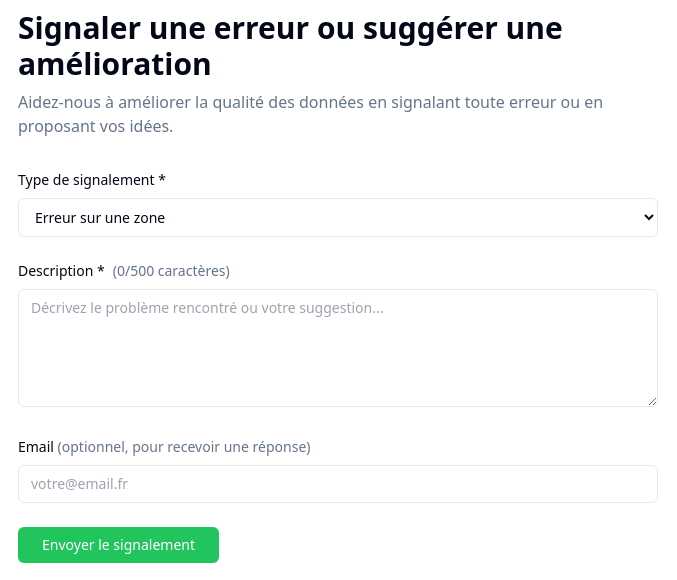
Scenario: FeedbackPage › description shows character count
Type "Test" into the text box labelled "Description *(0/500 caractères)" at (338, 348), box x1=18 y1=289 x2=658 y2=407
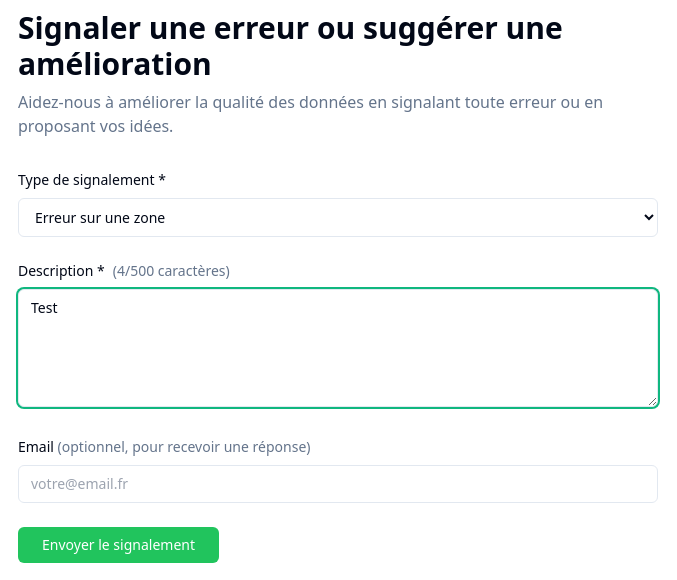
Expected: the text "(4/500 caractères)" is shown, x1=113 y1=261 x2=230 y2=280
